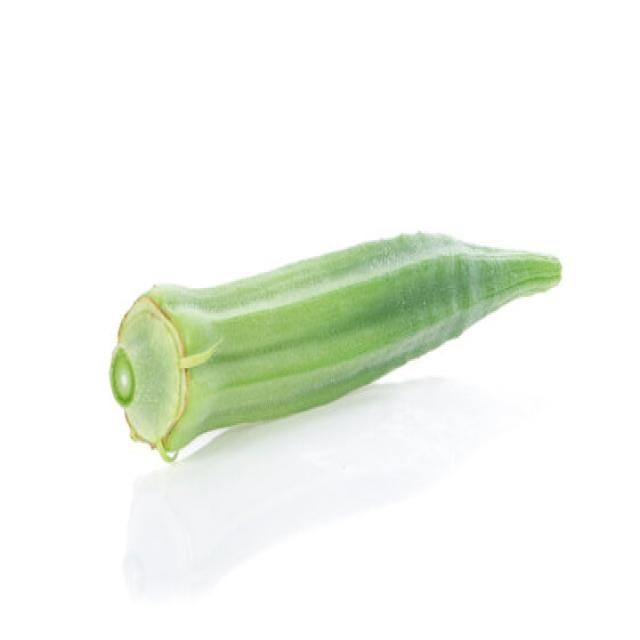Okra: (108, 228, 562, 462)
